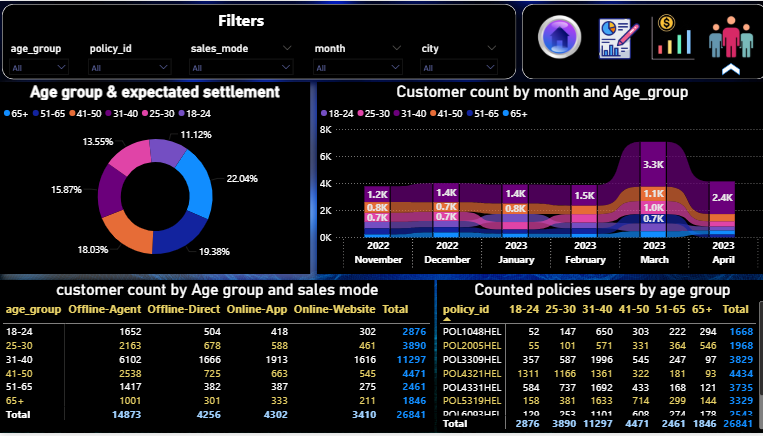

The page's visual inventory and layout, read from the dashboard file:
{"tool":"powerbi","page":{"name":"Age-group Analysis","canvas":[1280,720],"ordinal":3},"visuals":[{"type":"textbox","box":[325.1,8.6,152.9,58.1],"z":0,"group":"g1"},{"type":"donutChart","title":"Age group & expectated settlement ","fields":{"Y":["Avg(fact_settlements.settlement %)"],"Category":["dim_Age_group.age_group"]},"box":[0,136.1,517.3,290.6],"z":0},{"type":"slicer","fields":{"Values":["dim_month.month"]},"box":[511.4,62.9,170,62.9],"z":1000,"group":"g1"},{"type":"pivotTable","title":"Counted policies users by age group","fields":{"Rows":["fact_premiums.policy_id"],"Columns":["dim_Age_group.age_group"],"Values":["Count(dim_customers.customer_code)"]},"box":[728.5,438,551.3,282],"z":1000},{"type":"slicer","fields":{"Values":["fact_premiums.sales_mode"]},"box":[304.3,62.9,194.3,62.9],"z":2000,"group":"g1"},{"type":"pivotTable","title":"customer count by Age group and sales mode","fields":{"Rows":["dim_customers.age_group"],"Columns":["fact_premiums.sales_mode"],"Values":["Count(dim_customers.customer_code)"]},"box":[0,438,724.3,282],"z":2000},{"type":"slicer","fields":{"Values":["fact_premiums.policy_id"]},"box":[153.9,63.5,140,62.9],"z":3000,"group":"g1"},{"type":"ribbonChart","title":"Customer count by month and Age_group","fields":{"Category":["dim_month.month","dim_date.year"],"Y":["Measure.total_customer"],"Series":["dim_Age_group.age_group"]},"box":[528.7,136.1,751.2,290.6],"z":3000},{"type":"shape","box":[2.9,4.3,857.1,125.7],"z":4000},{"type":"slicer","fields":{"Values":["dim_Age_group.age_group"]},"box":[1.8,63.5,145.7,62.9],"z":4000,"group":"g1"},{"type":"group","id":"g1","title":"Group 1","box":[1.8,8.6,838.2,117.8],"z":5000},{"type":"slicer","fields":{"Values":["dim_city.city"]},"box":[690,62.9,150,62.9],"z":5000,"group":"g1"},{"type":"shape","box":[870,4.5,410,125.5],"z":6000},{"type":"image","box":[873,19,118,83],"z":7000},{"type":"image","box":[976,23,111,79],"z":8000},{"type":"image","box":[1069,19,107,83],"z":9000},{"type":"image","box":[1156,22,124,76],"z":10000},{"type":"shape","box":[1203,103,30,21],"z":11000},{"type":"actionButton","box":[656.2,18.4,184.3,38.3],"z":12000}]}

Visuals, with their boxes in screenshot pixels (x1, y1, x2, y2), scaled from the page's 1280x720 canvas onto the 763x436 screenshot:
textbox: 194/5/285/40
"Age group & expectated settlement " donutChart: 0/82/308/258
slicer - dim_month.month: 305/38/406/76
"Counted policies users by age group" pivotTable: 434/265/762/435
slicer - fact_premiums.sales_mode: 181/38/297/76
"customer count by Age group and sales mode" pivotTable: 0/265/432/435
slicer - fact_premiums.policy_id: 92/38/175/77
"Customer count by month and Age_group" ribbonChart: 315/82/762/258
shape: 2/3/513/79
slicer - dim_Age_group.age_group: 1/38/88/77
"Group 1" group: 1/5/501/77
slicer - dim_city.city: 411/38/501/76
shape: 519/3/762/79
image: 520/12/591/62
image: 582/14/648/62
image: 637/12/701/62
image: 689/13/762/59
shape: 717/62/735/75
actionButton: 391/11/501/34
